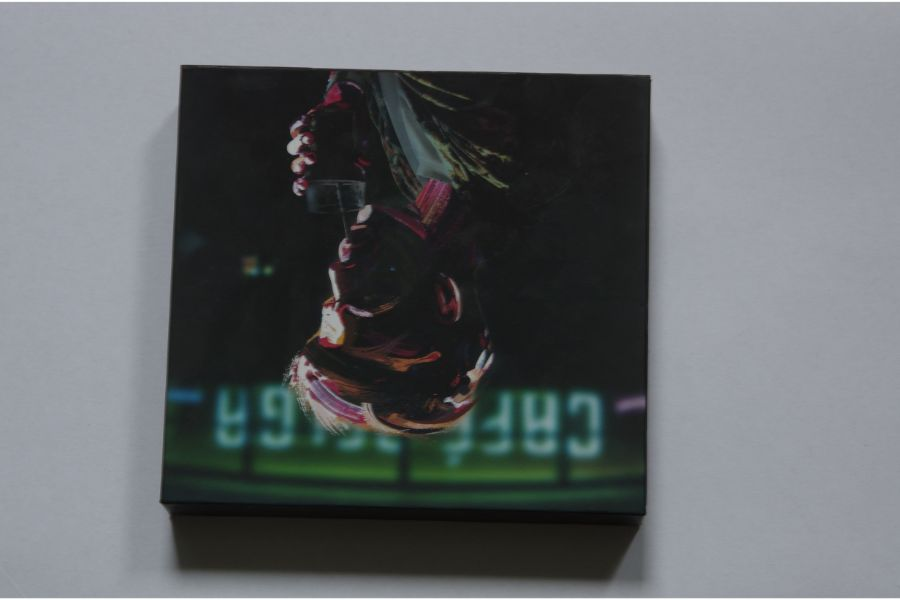album: (159, 60, 650, 527)
